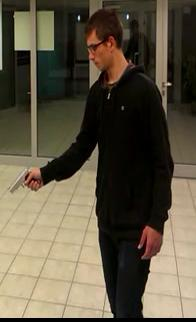pistol: (8, 167, 39, 193)
